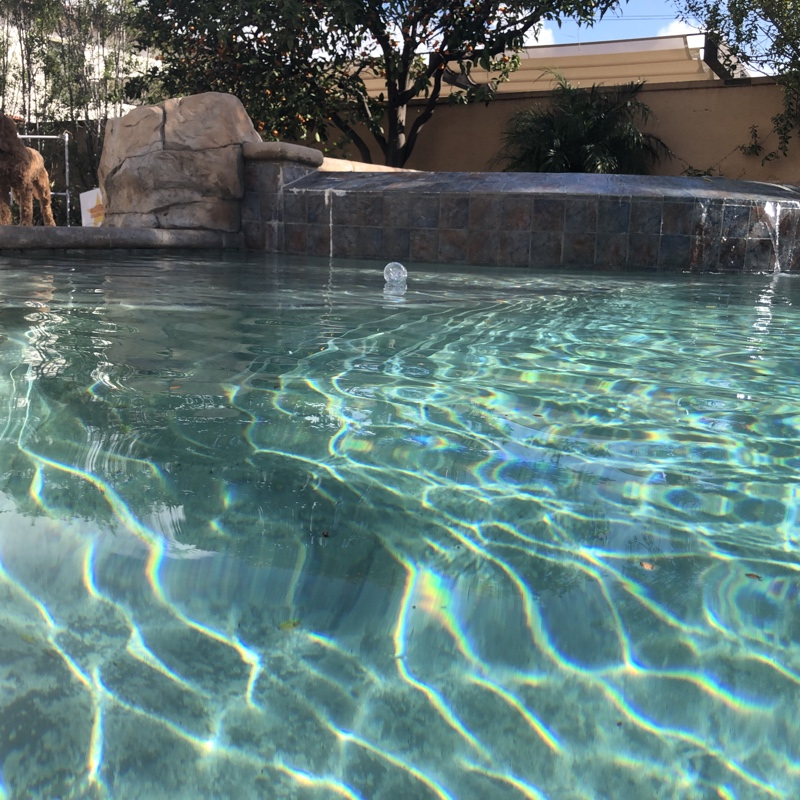Plastic Bottle: (383, 260, 408, 289)
